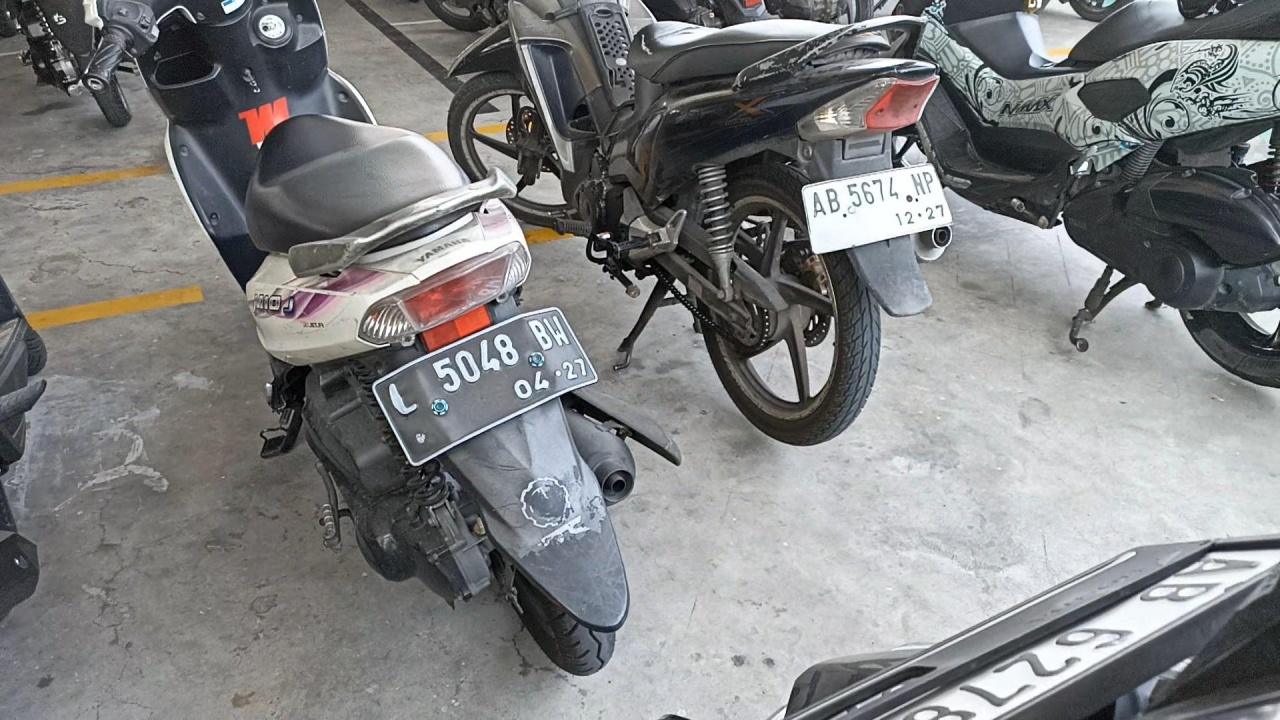plate: (373, 306, 598, 467)
